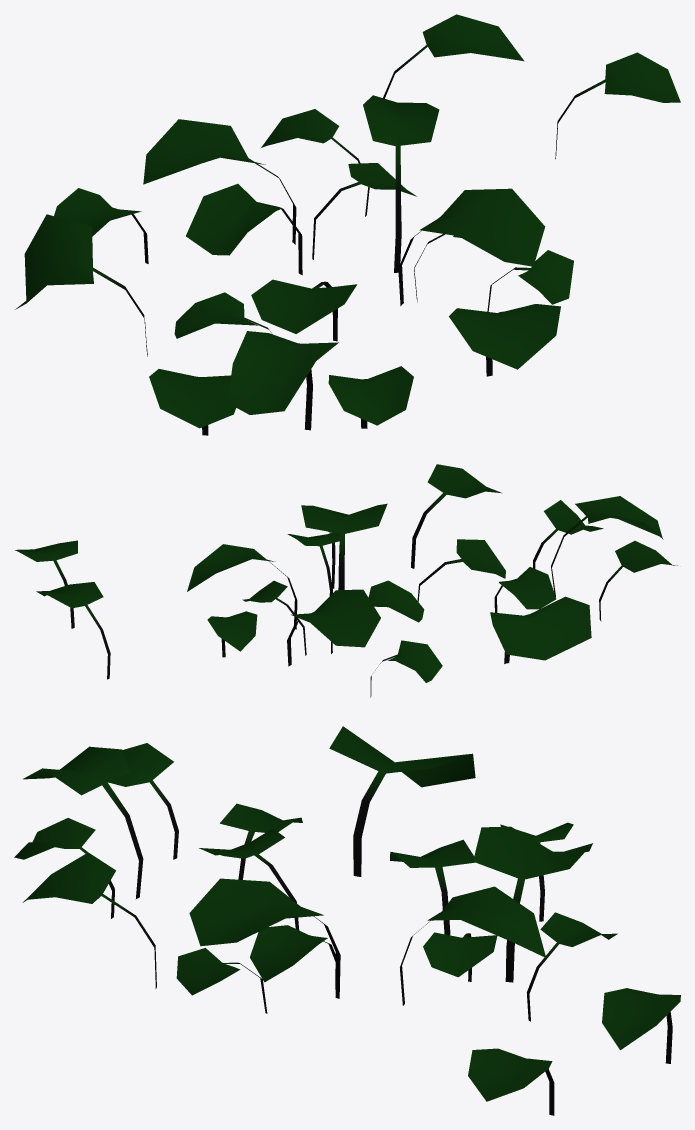
File: GroundIviGCATA_Dense_E.fbx
3 renders of one model, top to bottom at view 1: azimuth 30°, elevation 25°; view 2: azimuth 150°, elevation 25°; view 3: azimuth 270°, elevation 25°, orthographic. The views are drawn at different scales.
Parts seen in each view (by area): view 1: GIGCATADE_LOD0; view 2: GIGCATADE_LOD0; view 3: GIGCATADE_LOD0.
Boxes of the visible parts, bbox=[...] form: GIGCATADE_LOD0: bbox=[15, 14, 680, 435]; GIGCATADE_LOD0: bbox=[15, 464, 677, 697]; GIGCATADE_LOD0: bbox=[14, 726, 680, 1115].
Size of what is drawn, in the model's own units: 1.43 by 0.2434 by 1.18.
